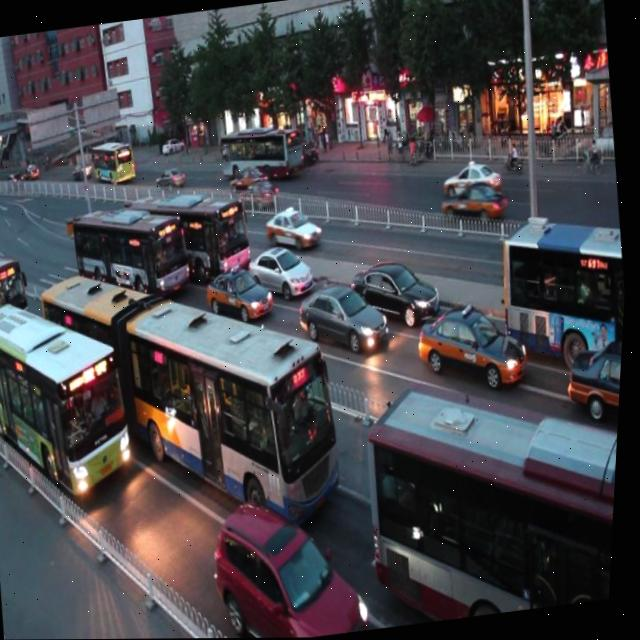car: (211, 486, 382, 639), (414, 289, 536, 399), (295, 269, 393, 359), (351, 246, 447, 328), (561, 336, 626, 421), (202, 253, 278, 325), (245, 230, 318, 303), (3, 308, 63, 371), (263, 200, 326, 257)
van: (29, 234, 361, 555), (358, 360, 625, 629), (0, 287, 147, 508), (494, 209, 631, 376), (66, 187, 197, 313), (126, 172, 258, 289), (0, 231, 36, 334)
